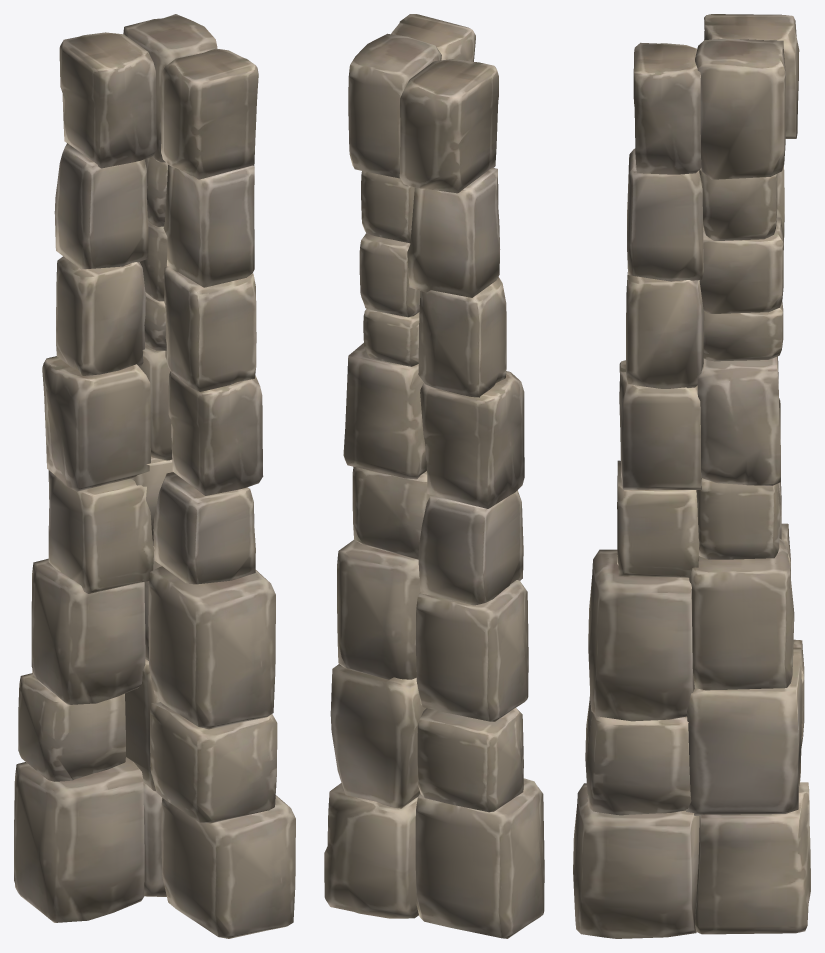
The model's file is Corner_ExteriorWide_Brick.glb.
The picture shows the model from 3 angles, left to right: view 1: azimuth 30°, elevation 25°; view 2: azimuth 150°, elevation 25°; view 3: azimuth 270°, elevation 25°; orthographic projection. The views are drawn at different scales.
Parts seen in each view (by area): view 1: Corner_ExteriorWide_Brick; view 2: Corner_ExteriorWide_Brick; view 3: Corner_ExteriorWide_Brick.
Part boxes in pixels (x1=…): Corner_ExteriorWide_Brick: x1=14, y1=14, x2=295, y2=938; Corner_ExteriorWide_Brick: x1=324, y1=14, x2=544, y2=938; Corner_ExteriorWide_Brick: x1=573, y1=14, x2=810, y2=938.
Bounding box in the file's own units: 0.7121 × 3.04 × 0.7563.
1 material, 1 textured.
